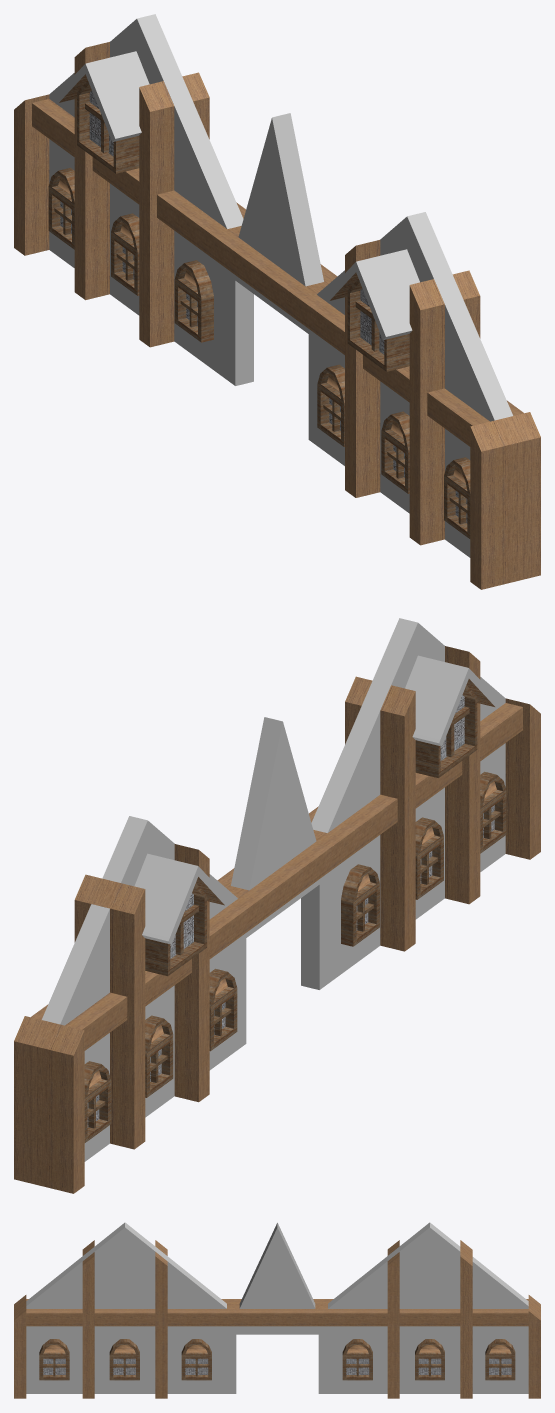
The model's file is Butcher_frontwall.fbx.
3 renders of one model, top to bottom at view 1: azimuth 30°, elevation 25°; view 2: azimuth 150°, elevation 25°; view 3: azimuth 270°, elevation 25°, orthographic. The views are drawn at different scales.
Visible parts, largest first — view 1: Butcher_frontwall; view 2: Butcher_frontwall; view 3: Butcher_frontwall.
Boxes of the visible parts, bbox=[...] form: Butcher_frontwall: bbox=[14, 14, 540, 589]; Butcher_frontwall: bbox=[14, 618, 540, 1193]; Butcher_frontwall: bbox=[14, 1222, 540, 1398].
Bounding box in the file's own units: 16.25 × 53.16 × 152.
